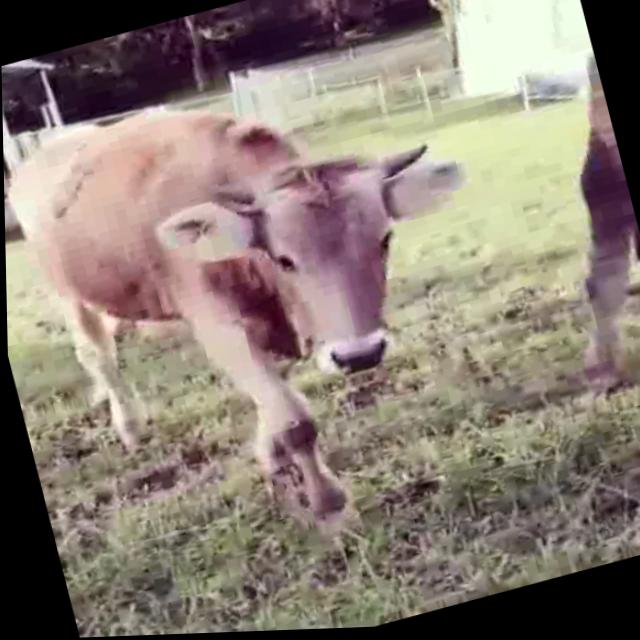cowFace: (148, 129, 511, 426)
